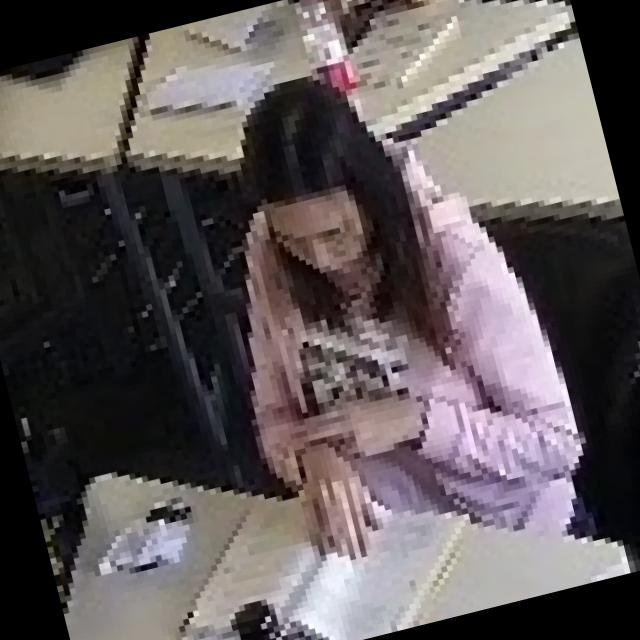write: (178, 43, 605, 637)
